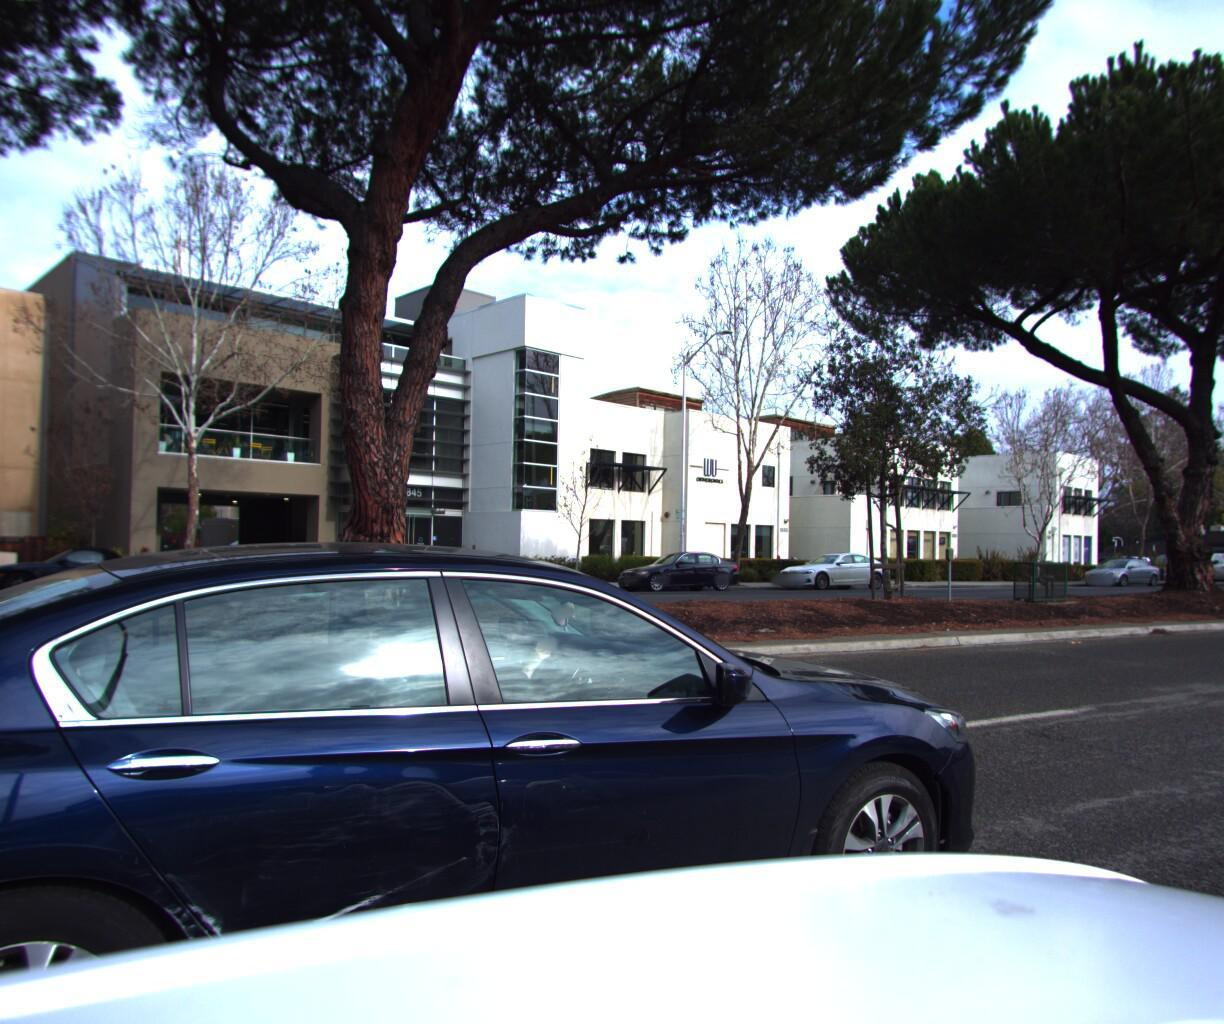car: (605, 546, 745, 592), (766, 545, 896, 589), (1072, 552, 1162, 583), (1151, 547, 1224, 584)
